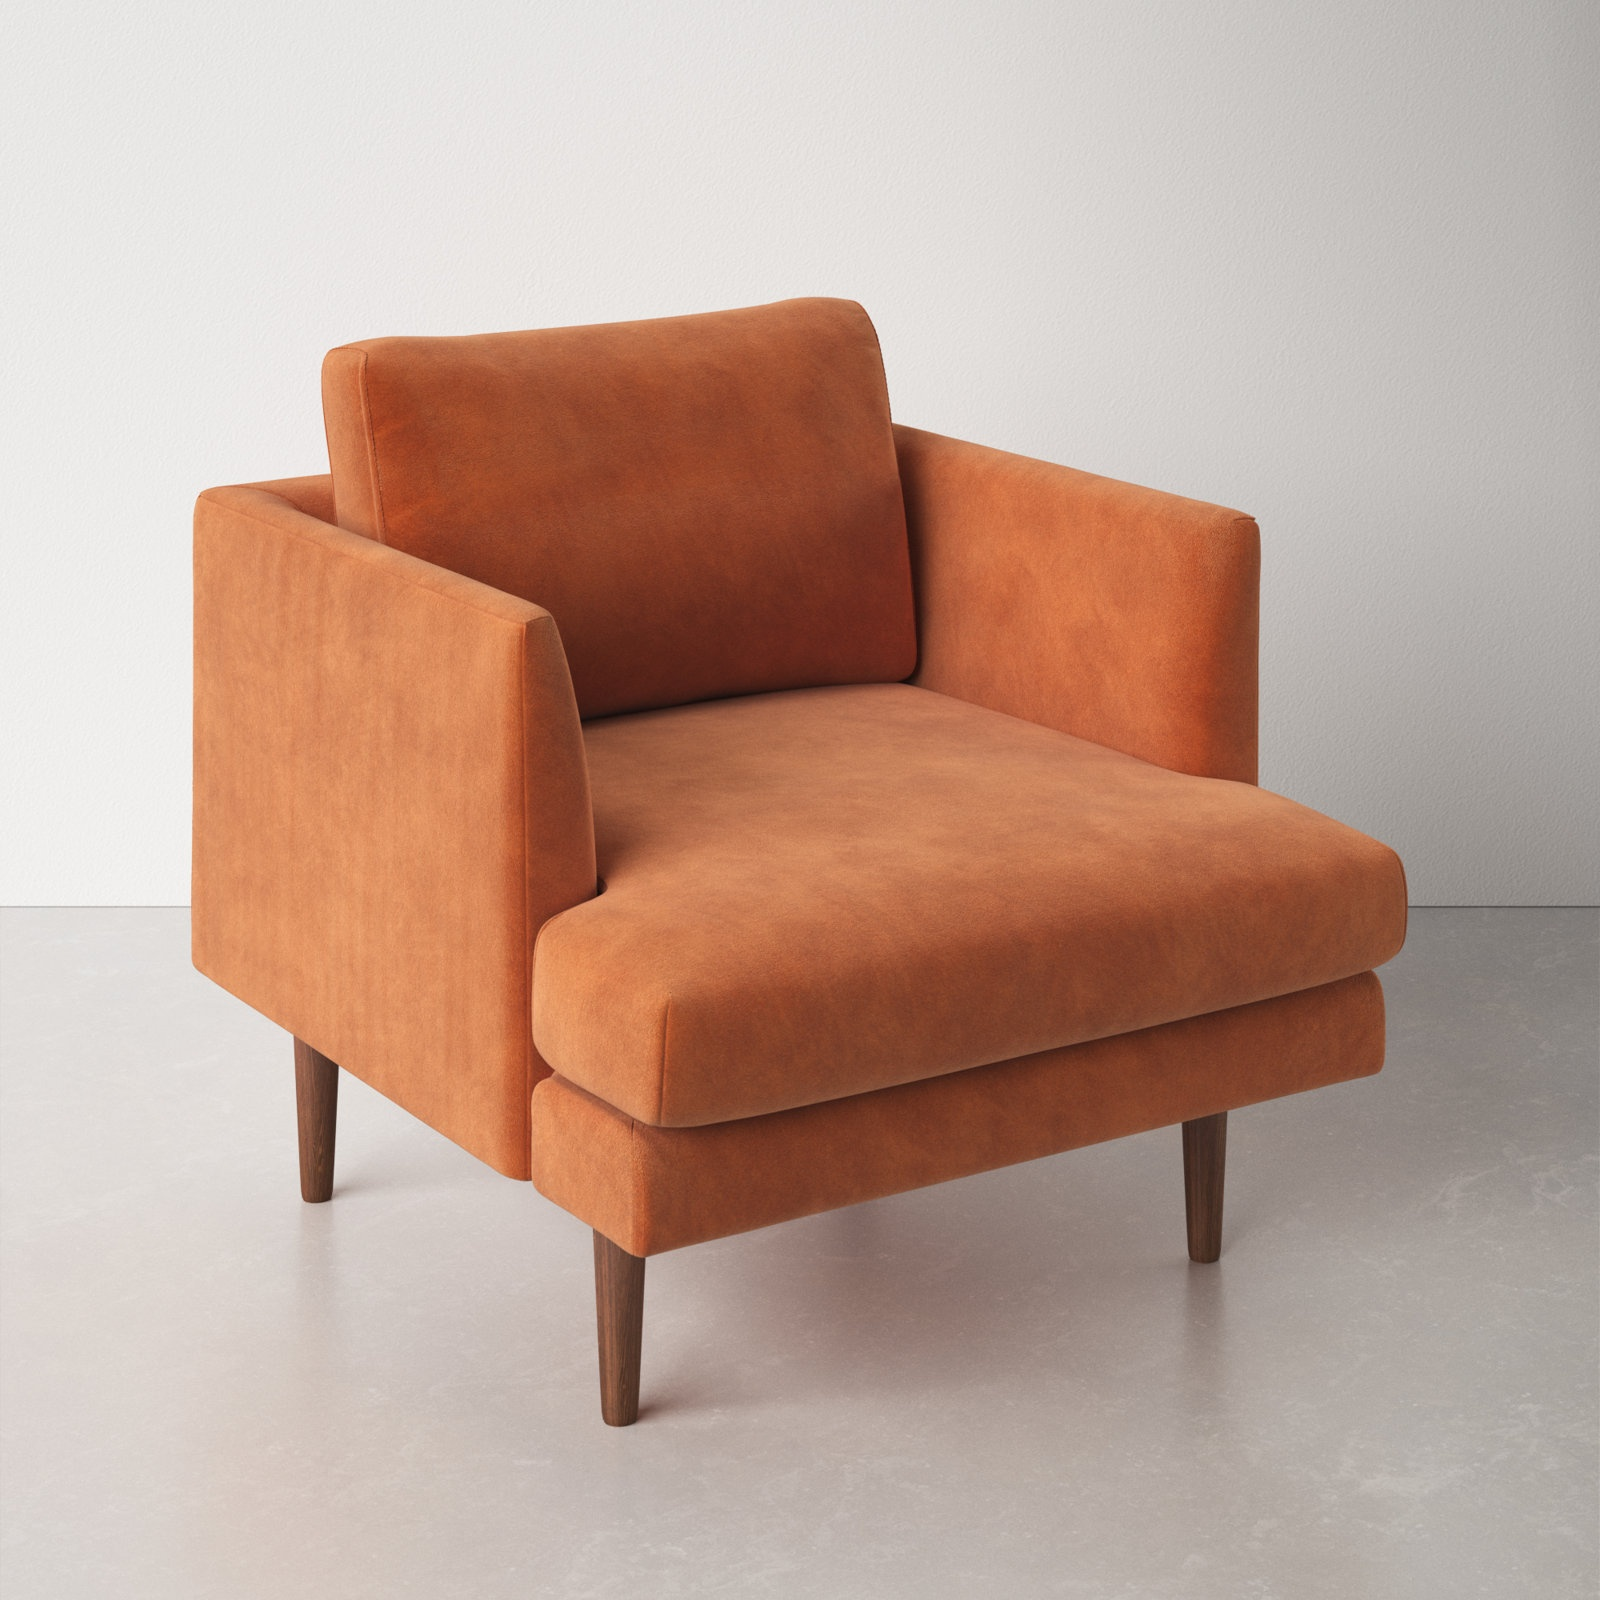obstacle: (193, 299, 1405, 1423)
